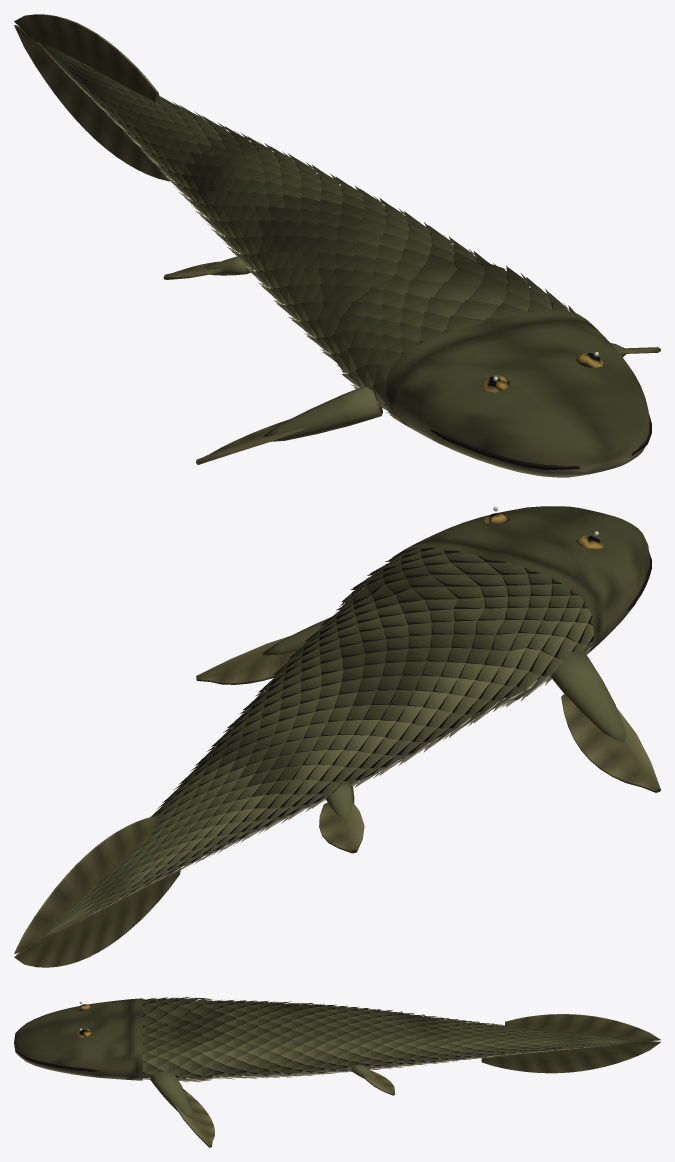
Rendered from Panderichthys.fbx.
3 renders of one model, top to bottom at view 1: azimuth 30°, elevation 25°; view 2: azimuth 150°, elevation 25°; view 3: azimuth 270°, elevation 25°, orthographic. The views are drawn at different scales.
Visible parts, largest first — view 1: Panderichthys; view 2: Panderichthys; view 3: Panderichthys.
Boxes of the visible parts, x1,y1,x2,y2 form: Panderichthys: (14, 14, 660, 477); Panderichthys: (14, 506, 660, 967); Panderichthys: (14, 996, 660, 1147).
Size of the model in its own units: 0.7521 by 0.2226 by 1.66.
